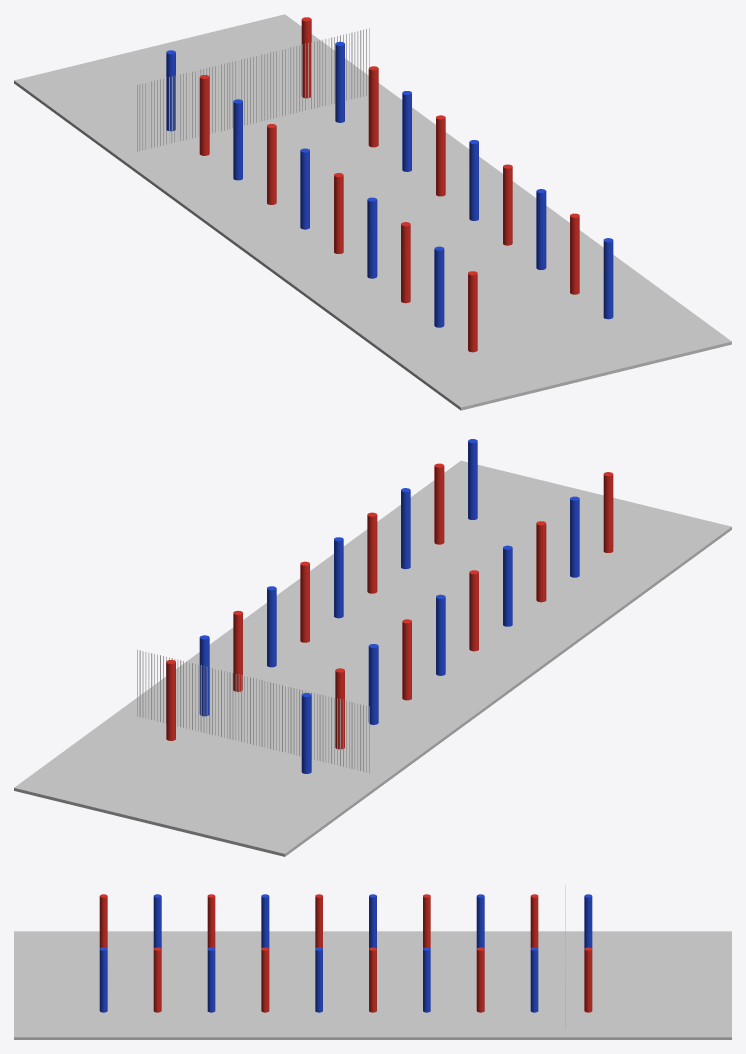
The model's file is distortion.gltf.
The picture shows the model from 3 angles, top to bottom: view 1: azimuth 30°, elevation 25°; view 2: azimuth 150°, elevation 25°; view 3: azimuth 270°, elevation 25°; orthographic projection. The views are drawn at different scales.
Visible parts, largest first — view 1: Exhibit; view 2: Exhibit; view 3: Exhibit.
Boxes of the visible parts, bbox=[...] form: Exhibit: bbox=[14, 14, 731, 410]; Exhibit: bbox=[14, 439, 731, 856]; Exhibit: bbox=[14, 885, 731, 1039].
Size of the model in its own units: 14 by 3.95 by 40.
